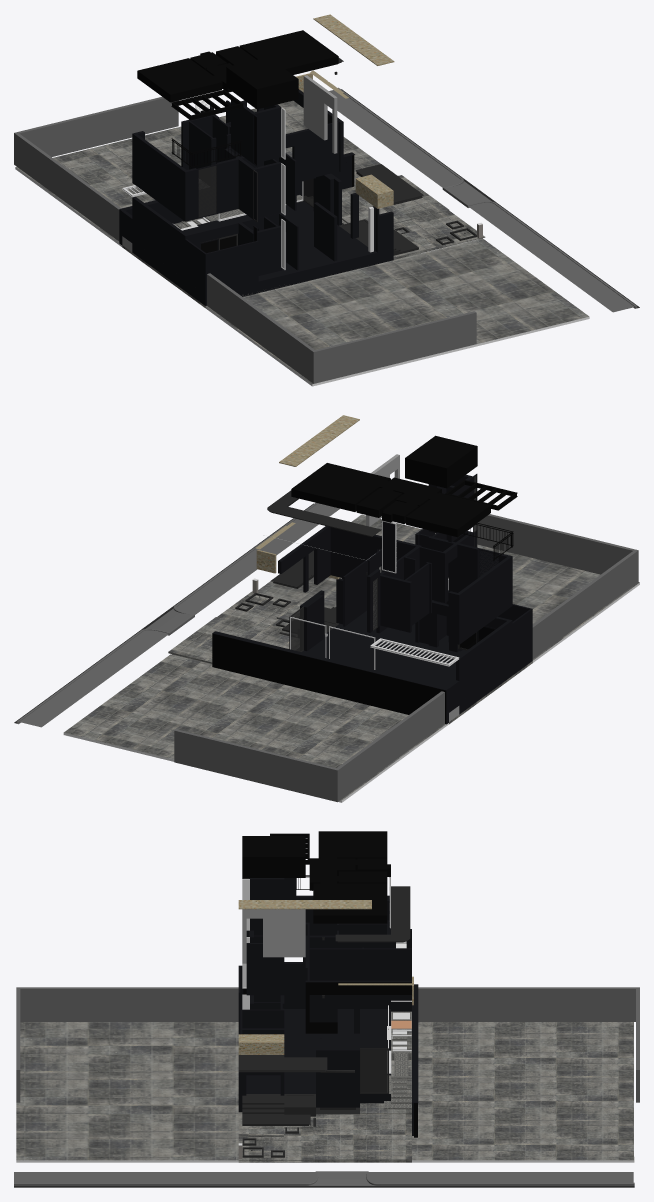
The model's file is building2.gltf.
3 views of the same model, one above another, from view 1: azimuth 30°, elevation 25°; view 2: azimuth 150°, elevation 25°; view 3: azimuth 270°, elevation 25° (orthographic). The views are drawn at different scales.
Visible parts, largest first — view 1: Object002, kitchen wall, Group#4 [71045], Group#2 [71039], Group#304 [70943], Object, Group#304 [70944], Group#1 [65637], Group#304 [70946], Group#304 [70945], Group_283, Group#256 [71051] (+14 smaller); view 2: Object, kitchen wall, Group#270 [71077], Group#2 [71039], Group#304 [70944], Object002, Group#4 [71045], Group#304 [70943], Group#1 [65637], Group#253 [71058], Group#304 [70946], Group#304 [70945] (+13 smaller); view 3: Object002, Object, kitchen wall, Group#1 [65637], Group#304 [70946], Group#304 [70945], Group#2 [71039], Group#253 [71058], Group_283, Group#4 [71045], Group#256 [71051], Layer0_001 (+20 smaller).
Boxes of the visible parts, x1=… form: Object002: x1=206, y1=238, x2=588, y2=383; kitchen wall: x1=132, y1=89, x2=343, y2=221; Group#4 [71045]: x1=132, y1=174, x2=355, y2=279; Group#2 [71039]: x1=132, y1=201, x2=393, y2=305; Group#304 [70943]: x1=312, y1=311, x2=476, y2=383; Object: x1=16, y1=100, x2=380, y2=242; Group#304 [70944]: x1=14, y1=96, x2=178, y2=165; Group#1 [65637]: x1=122, y1=175, x2=485, y2=307; Group#304 [70946]: x1=207, y1=273, x2=316, y2=383; Group#304 [70945]: x1=14, y1=132, x2=121, y2=241; Group_283: x1=468, y1=202, x2=634, y2=312; Group#256 [71051]: x1=137, y1=51, x2=232, y2=102; Object: x1=64, y1=654, x2=445, y2=800; kitchen wall: x1=278, y1=526, x2=512, y2=644; Group#270 [71077]: x1=212, y1=633, x2=448, y2=724; Group#2 [71039]: x1=302, y1=611, x2=532, y2=714; Group#304 [70944]: x1=174, y1=729, x2=339, y2=802; Object002: x1=258, y1=514, x2=639, y2=660; Group#4 [71045]: x1=303, y1=578, x2=512, y2=702; Group#304 [70943]: x1=473, y1=514, x2=638, y2=576; Group#1 [65637]: x1=168, y1=591, x2=532, y2=724; Group#253 [71058]: x1=291, y1=463, x2=417, y2=517; Group#304 [70946]: x1=532, y1=549, x2=638, y2=659; Group#304 [70945]: x1=335, y1=691, x2=444, y2=800; Object002: x1=16, y1=1022, x2=238, y2=1160; Object: x1=412, y1=1022, x2=633, y2=1160; kitchen wall: x1=246, y1=895, x2=411, y2=1033; Group#1 [65637]: x1=238, y1=1060, x2=411, y2=1162; Group#304 [70946]: x1=16, y1=987, x2=238, y2=1021; Group#304 [70945]: x1=418, y1=987, x2=639, y2=1021; Group#2 [71039]: x1=238, y1=1008, x2=390, y2=1112; Group#253 [71058]: x1=309, y1=870, x2=387, y2=923; Group_283: x1=14, y1=1172, x2=315, y2=1182; Group#4 [71045]: x1=242, y1=962, x2=390, y2=1075; Group#256 [71051]: x1=309, y1=831, x2=390, y2=876; Layer0_001: x1=368, y1=1172, x2=633, y2=1182.
Size of the model in its own units: 22.11 by 13.28 by 35.29.
27 materials, 2 textured.
